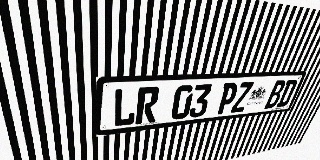0: (170, 85, 195, 120)
3: (188, 84, 213, 118)
B: (264, 80, 287, 109)
D: (276, 79, 299, 107)
L: (113, 88, 138, 127)
P: (215, 82, 240, 115)
R: (135, 86, 160, 124)
Z: (230, 82, 254, 113)
